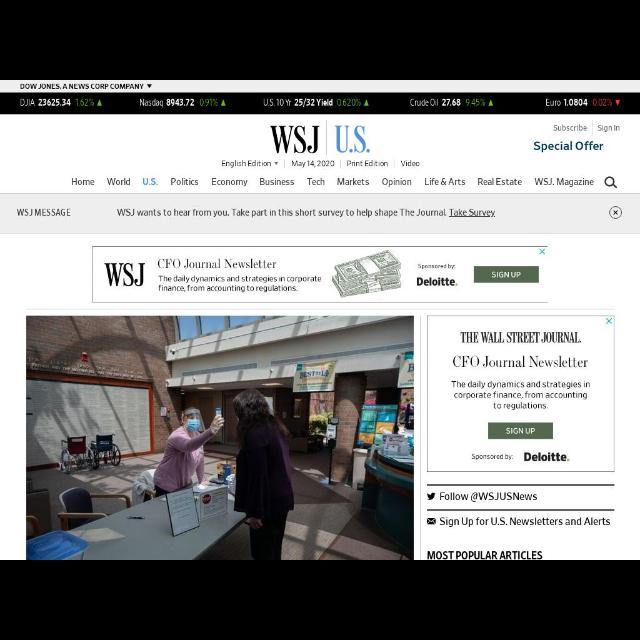icon: (604, 176, 618, 188), (610, 207, 622, 219), (426, 518, 436, 526), (427, 494, 435, 501), (146, 84, 152, 88), (274, 162, 278, 164)
iframe: (427, 316, 615, 472), (92, 247, 550, 303)
image: (28, 315, 414, 559)
multitab: (71, 176, 594, 190)
spinner: (222, 160, 278, 168)
text: (20, 99, 620, 108), (118, 208, 496, 218), (440, 517, 610, 527), (270, 126, 320, 154), (428, 550, 542, 560), (335, 126, 371, 154), (532, 140, 604, 154), (439, 492, 537, 502), (20, 83, 144, 89), (534, 178, 594, 186), (17, 208, 72, 216), (478, 178, 522, 186), (222, 160, 270, 167), (292, 160, 334, 168), (424, 178, 466, 186), (382, 178, 412, 188), (212, 178, 248, 186), (260, 178, 294, 186), (337, 178, 369, 186), (348, 161, 388, 167), (554, 125, 586, 132), (171, 178, 199, 186), (598, 125, 620, 133), (72, 178, 94, 186), (108, 178, 130, 186), (400, 161, 420, 167), (143, 178, 157, 186), (308, 178, 324, 185)
